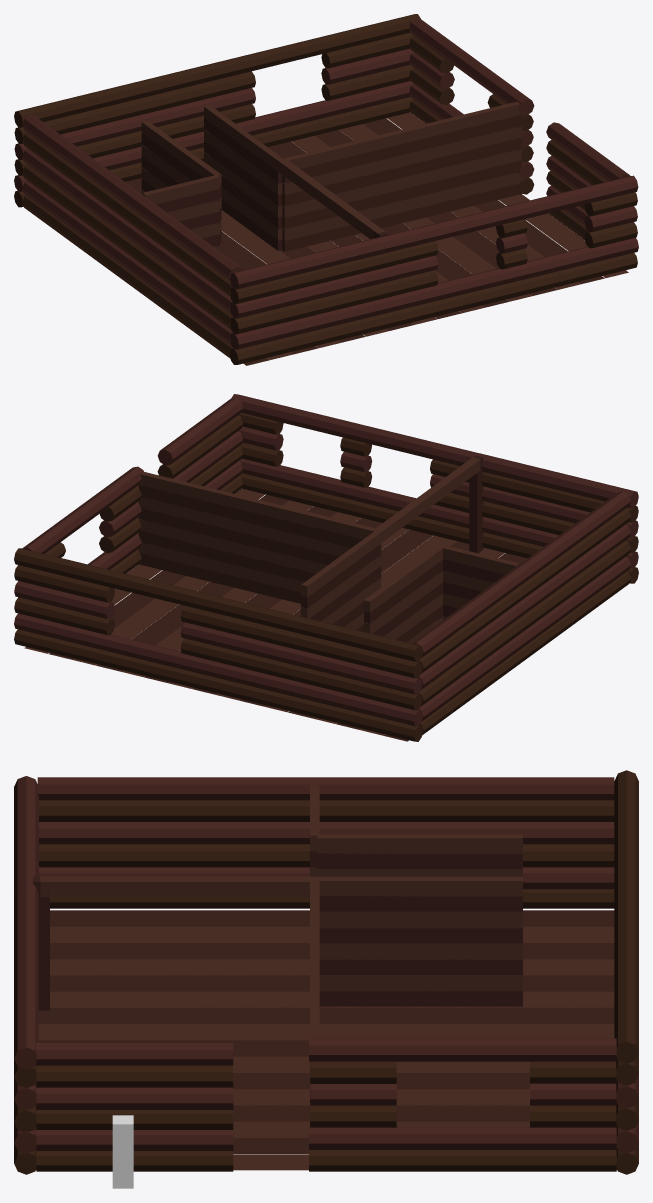
File: Cabana 1.fbx
3 views of the same model, one above another, from view 1: azimuth 30°, elevation 25°; view 2: azimuth 150°, elevation 25°; view 3: azimuth 270°, elevation 25° (orthographic). The views are drawn at different scales.
Visible parts, largest first — view 1: Cylinder.020, Cube.007, Cylinder, Cylinder.007, Suelo, Cylinder.011, Cube.003, Cylinder.009, Cube.012; view 2: Cylinder, Cylinder.020, Cube.007, Cylinder.007, Suelo, Cube.003, Cylinder.011, Cylinder.009, Cube.012; view 3: Suelo, Cylinder.007, Cylinder.011, Cube.007, Cylinder.009, Cylinder, Cube.003, Cylinder.020, Cube.012, Cube.
Boxes of the visible parts, bbox=[...] form: Cylinder.020: bbox=[230, 175, 638, 364]; Cube.007: bbox=[204, 101, 521, 251]; Cylinder: bbox=[14, 14, 420, 207]; Cylinder.007: bbox=[22, 115, 242, 358]; Suelo: bbox=[125, 112, 628, 365]; Cylinder.011: bbox=[409, 18, 534, 194]; Cube.003: bbox=[141, 120, 221, 252]; Cylinder.009: bbox=[546, 122, 630, 239]; Cube.012: bbox=[278, 158, 387, 239]; Cylinder: bbox=[14, 548, 422, 741]; Cylinder.020: bbox=[231, 394, 638, 583]; Cube.007: bbox=[138, 471, 381, 631]; Cylinder.007: bbox=[412, 491, 631, 735]; Suelo: bbox=[24, 488, 527, 741]; Cube.003: bbox=[364, 545, 518, 643]; Cylinder.011: bbox=[22, 466, 143, 573]; Cylinder.009: bbox=[157, 398, 243, 493]; Cube.012: bbox=[373, 455, 483, 553]; Suelo: bbox=[36, 910, 616, 1170]; Cylinder.007: bbox=[37, 777, 614, 908]; Cylinder.011: bbox=[309, 1038, 616, 1171]; Cube.007: bbox=[310, 876, 522, 1126]; Cylinder.009: bbox=[36, 1042, 233, 1171]; Cylinder: bbox=[614, 770, 638, 1174]; Cube.003: bbox=[310, 785, 522, 876]; Cylinder.020: bbox=[14, 776, 38, 1174]; Cube.012: bbox=[33, 876, 317, 1010]; Cube: bbox=[112, 1115, 133, 1188].
Size of the model in its own units: 2711 by 614 by 2539.
